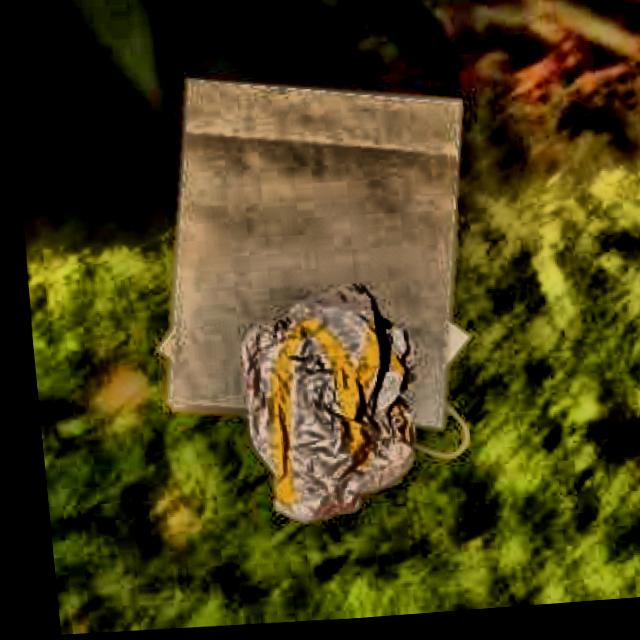Paper-bag: (116, 47, 492, 469), (213, 277, 422, 543)
